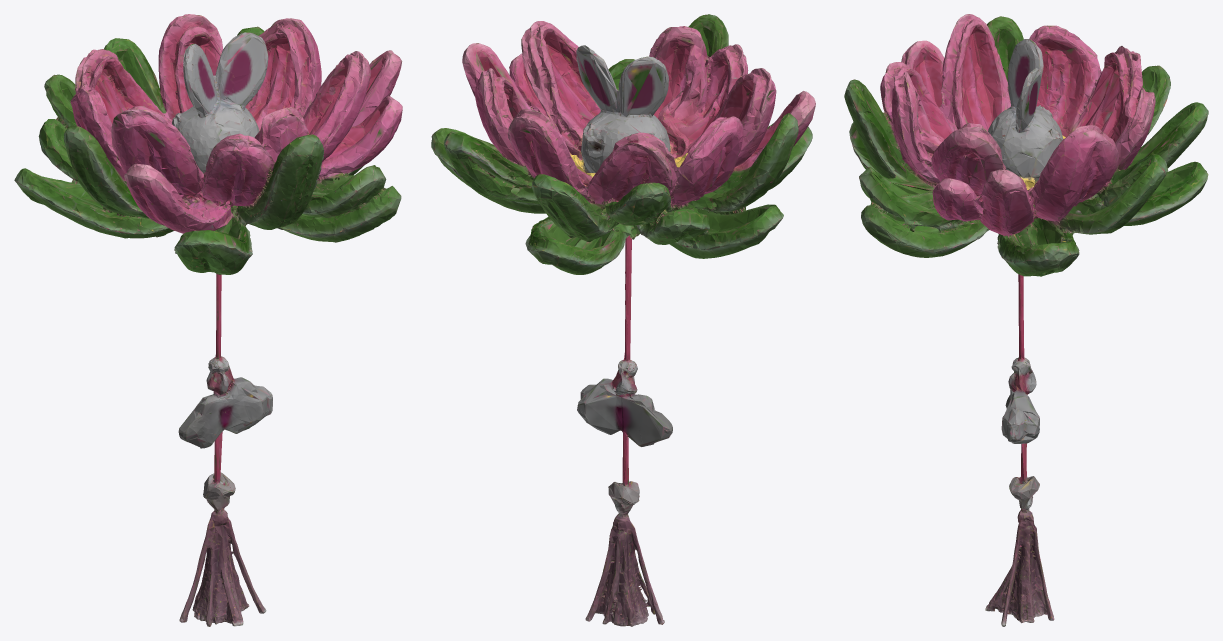
File: hanging-charm.glb
3 views of the same model, side by side, from view 1: azimuth 30°, elevation 25°; view 2: azimuth 150°, elevation 25°; view 3: azimuth 270°, elevation 25° (orthographic). The views are drawn at different scales.
Parts seen in each view (by area): view 1: geometry_0; view 2: geometry_0; view 3: geometry_0.
Part boxes in pixels (box(x1,y1,x2,y2)): geometry_0: box(14, 14, 402, 626); geometry_0: box(431, 14, 815, 626); geometry_0: box(844, 14, 1208, 626).
Size of the model in its own units: 0.6531 by 1 by 0.5904.
1 material, 1 textured.
